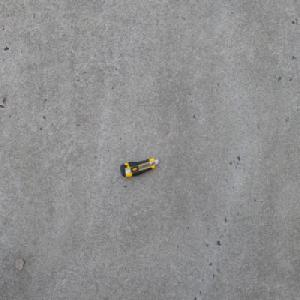Cutter: (119, 157, 159, 177)
